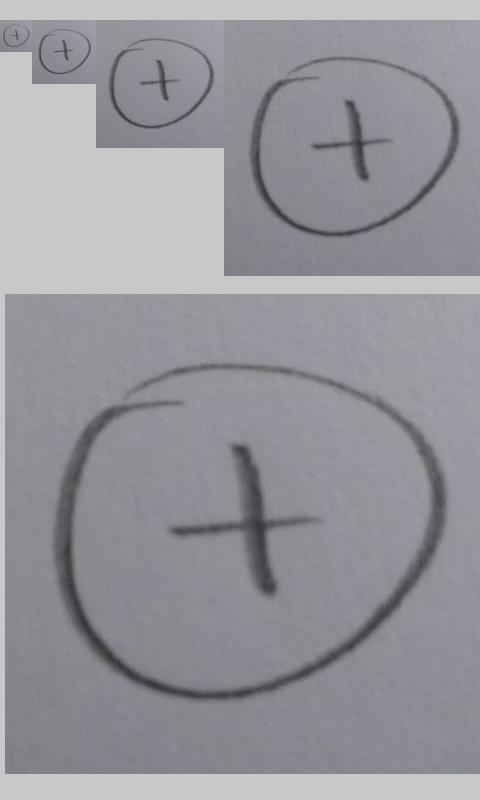button: (52, 358, 446, 702), (249, 55, 461, 236), (109, 37, 214, 128), (38, 28, 91, 75), (3, 24, 30, 48)
